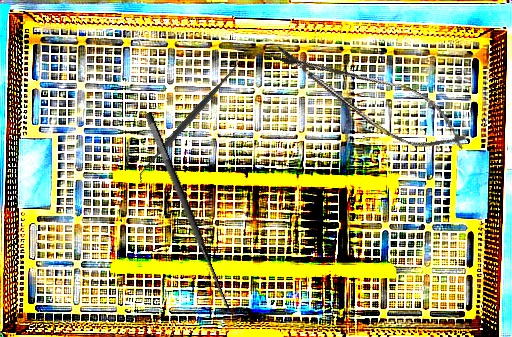Hook Surgical: (140, 105, 250, 318)
Micro Scissor: (260, 28, 479, 168)
Spatula Surgical: (128, 55, 249, 186)
